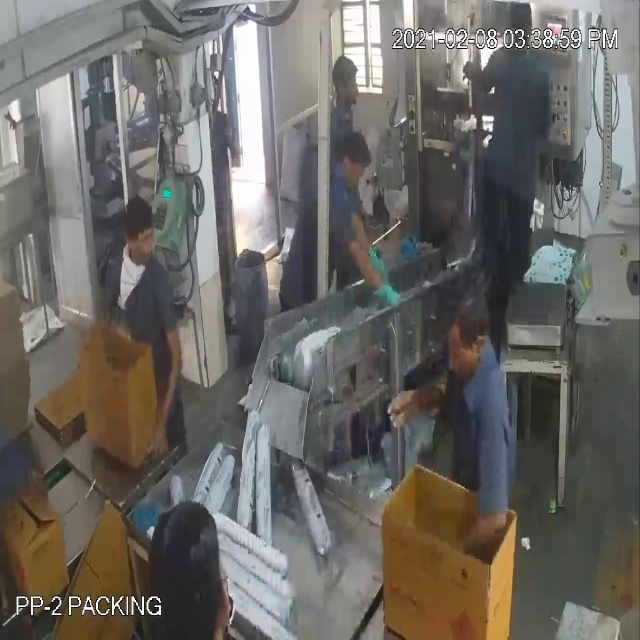Guantes: (348, 235, 402, 309)
Sin_guantes: (430, 488, 520, 577), (148, 307, 188, 462), (375, 364, 449, 430)
